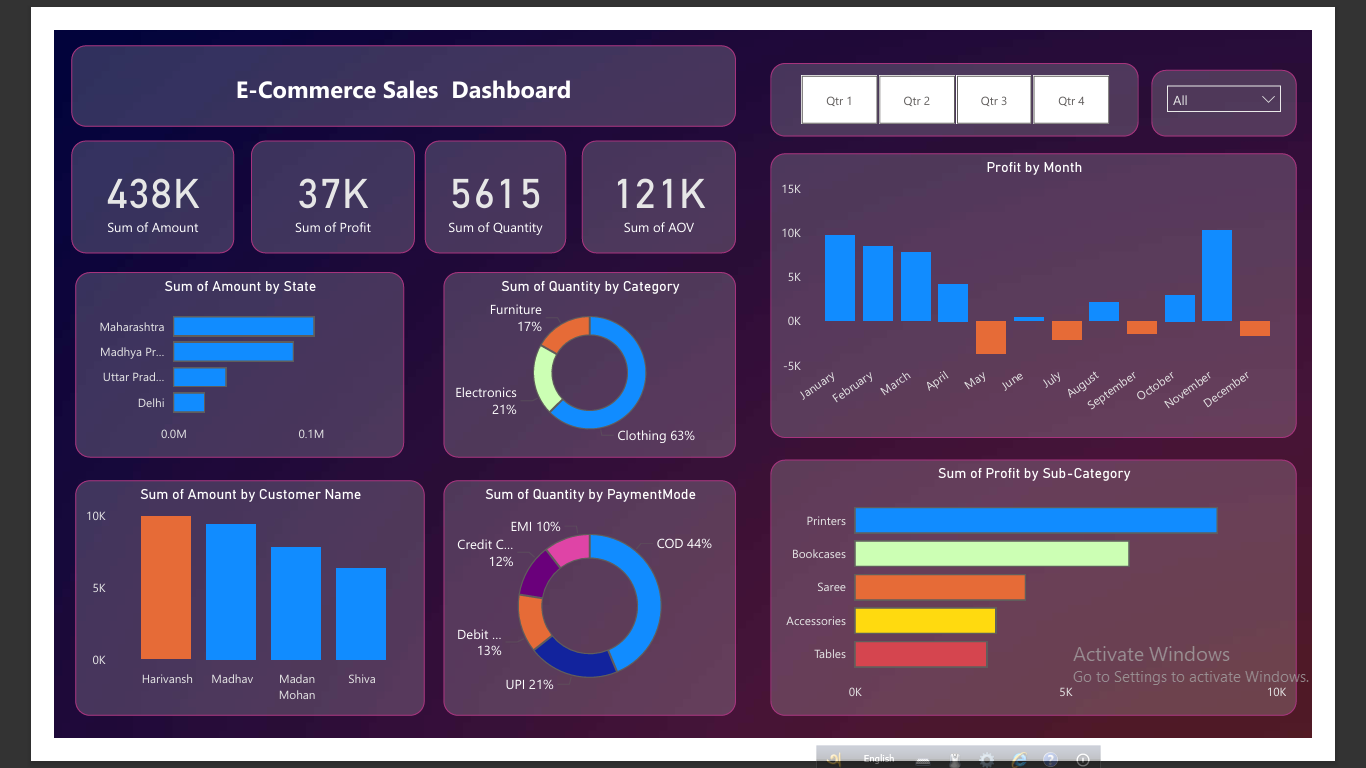

The page's visual inventory and layout, read from the dashboard file:
{"tool":"powerbi","page":{"name":"Page 1","canvas":[1280,720],"ordinal":0},"visuals":[{"type":"textbox","box":[17.3,15.4,676.9,82.7],"z":0},{"type":"columnChart","title":"Profit by Month","fields":{"Y":["Details.Profit"],"Category":["Orders.Order Date.Variation.Date Hierarchy.Month"]},"box":[728.8,125,536.5,290.4],"z":1000},{"type":"barChart","fields":{"Category":["Details.Sub-Category"],"Y":["Details.Profit"]},"box":[728.8,436.5,536.5,261.5],"z":2000},{"type":"donutChart","fields":{"Category":["Details.Category"],"Y":["Details.Quantity"]},"box":[396.2,246.2,298.1,188.5],"z":3000},{"type":"donutChart","fields":{"Y":["Details.Quantity"],"Category":["Details.PaymentMode"]},"box":[396.2,457.7,298.1,240.4],"z":4000},{"type":"card","fields":{"Values":["Details.Amount"]},"box":[17.3,111.5,165.4,115.4],"z":5000},{"type":"card","fields":{"Values":["Details.Profit"]},"box":[200,111.5,167.3,115.4],"z":6000},{"type":"card","fields":{"Values":["Details.Quantity"]},"box":[376.9,111.5,144.2,115.4],"z":7000},{"type":"card","fields":{"Values":["Details.AOV"]},"box":[536.5,111.5,157.7,115.4],"z":8000},{"type":"barChart","fields":{"Category":["Orders.State"],"Y":["Details.Amount"]},"box":[21.2,246.2,334.6,188.5],"z":9000},{"type":"columnChart","fields":{"Category":["Orders.Customer Name"],"Y":["Details.Amount"]},"box":[21.2,457.7,355.8,240.4],"z":10000},{"type":"slicer","fields":{"Values":["Orders.Order Date.Variation.Date Hierarchy.Quarter"]},"box":[728.8,32.7,375,75],"z":11000},{"type":"slicer","fields":{"Values":["Orders.State"]},"box":[1117.3,40.4,148.1,67.3],"z":12000}]}

Visuals, with their boxes on the page's 1280x720 design canvas (x1, y1, x2, y2). These are canvas units, not pixel positions in the 1366x768 screenshot, which may show the page scaled, cropped or inside an application window:
textbox: detection(17, 15, 694, 98)
"Profit by Month" columnChart: detection(729, 125, 1265, 415)
barChart - Details.Sub-Category x Details.Profit: detection(729, 436, 1265, 698)
donutChart - Details.Category x Details.Quantity: detection(396, 246, 694, 435)
donutChart - Details.Quantity x Details.PaymentMode: detection(396, 458, 694, 698)
card - Details.Amount: detection(17, 112, 183, 227)
card - Details.Profit: detection(200, 112, 367, 227)
card - Details.Quantity: detection(377, 112, 521, 227)
card - Details.AOV: detection(536, 112, 694, 227)
barChart - Orders.State x Details.Amount: detection(21, 246, 356, 435)
columnChart - Orders.Customer Name x Details.Amount: detection(21, 458, 377, 698)
slicer - Orders.Order Date.Variation.Date Hierarchy.Quarter: detection(729, 33, 1104, 108)
slicer - Orders.State: detection(1117, 40, 1265, 108)
